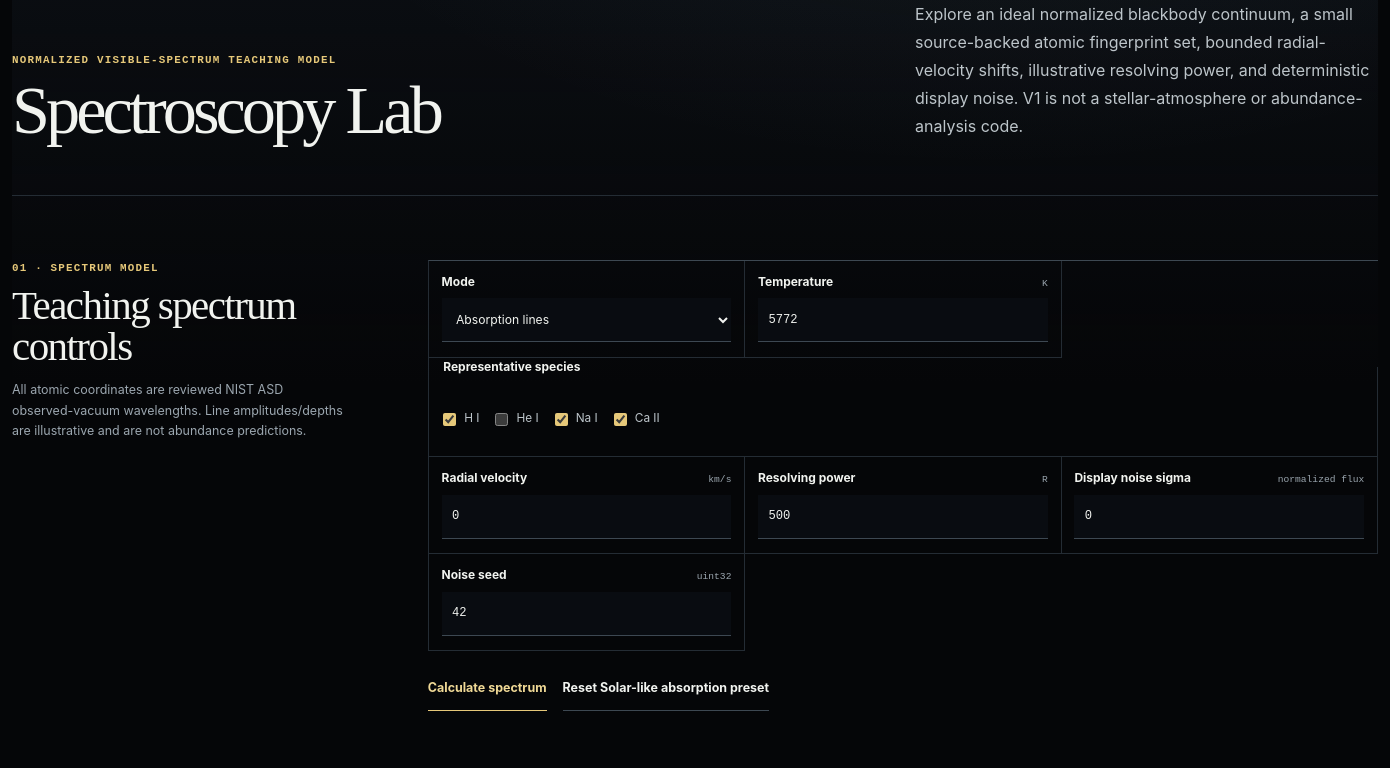
SpectroscopyLabView › commits only an accepted exact continuum state
Select "Blackbody continuum" in the dropdown labelled "Mode" at (586, 320), box top-left (442, 298), bottom-right (731, 342)
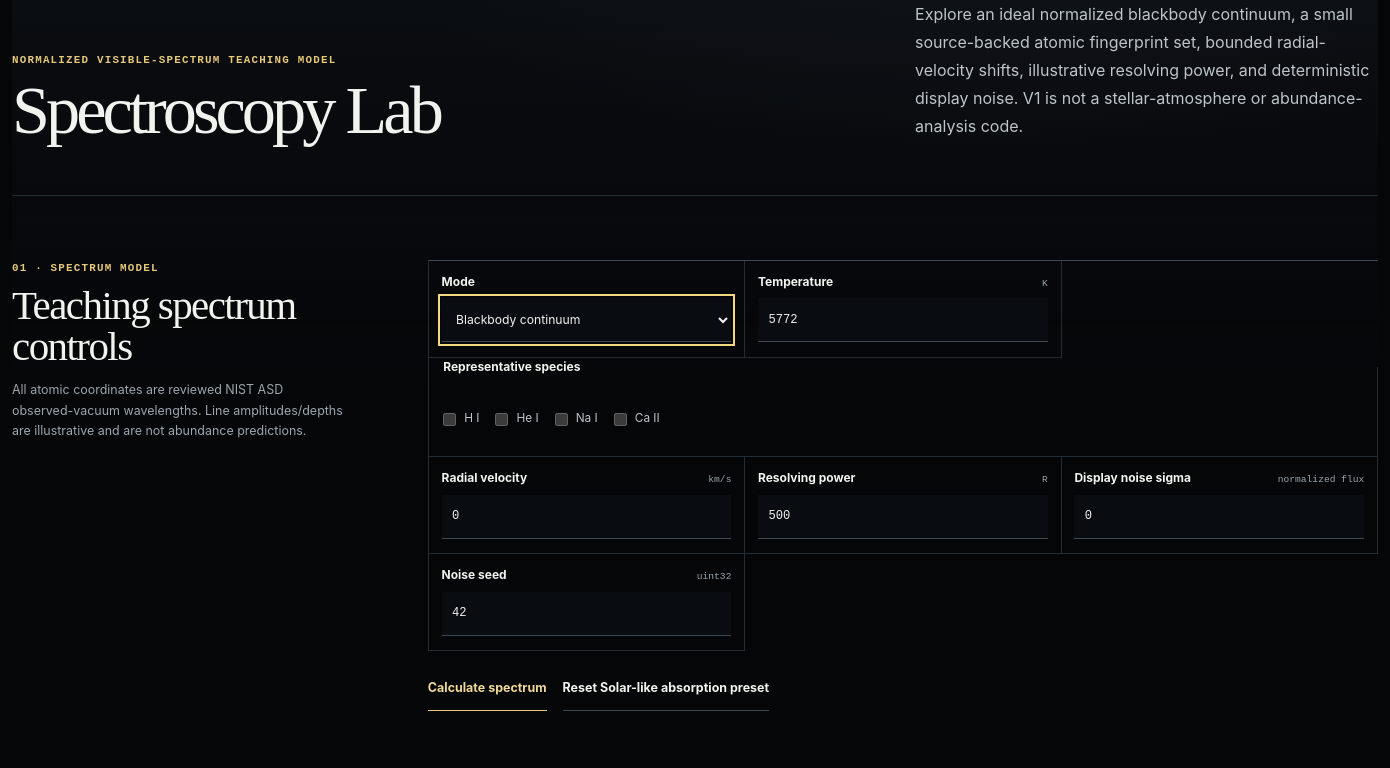
Replace the text in the number field labelled "Temperature K" with "6000" at (903, 320), box top-left (758, 298), bottom-right (1048, 342)
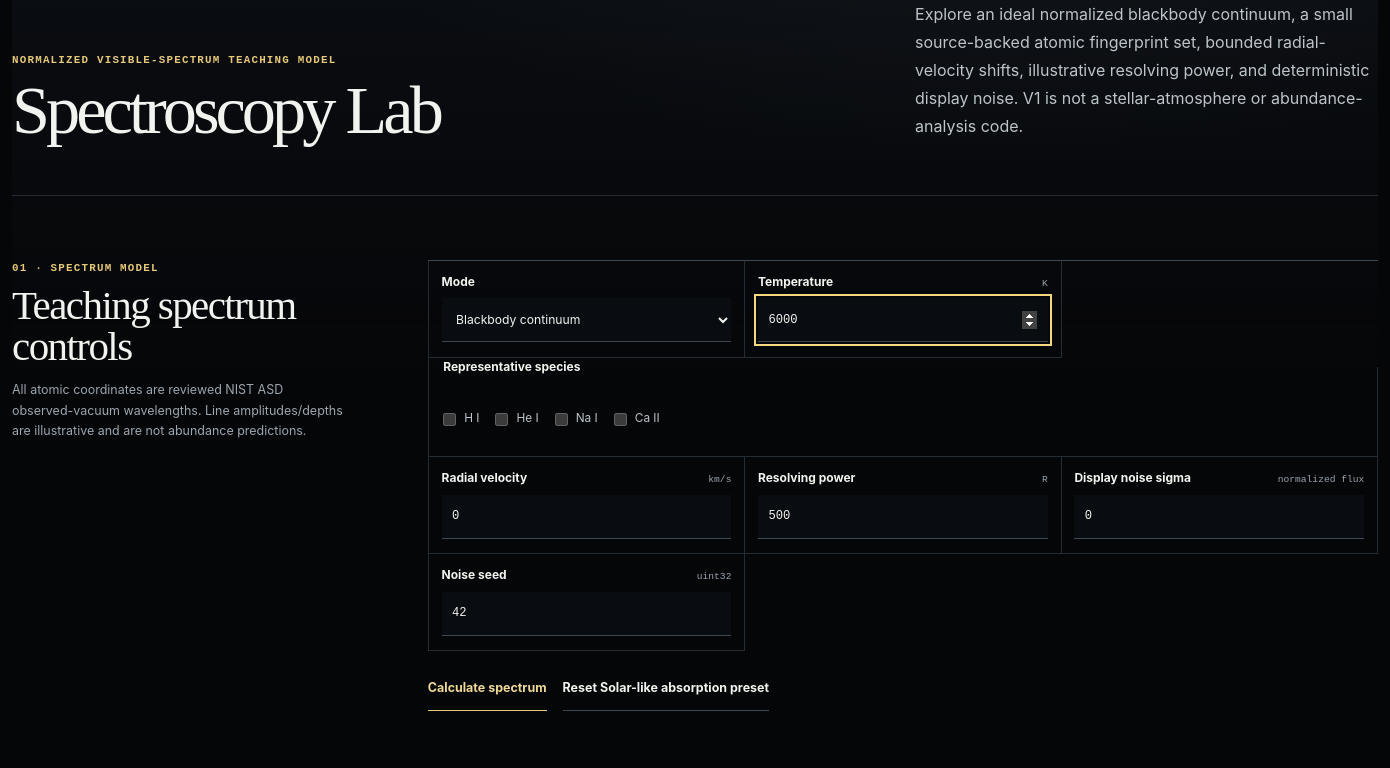
Click the button "Calculate spectrum" at (487, 689), box top-left (428, 667), bottom-right (547, 711)
(page scrolled)
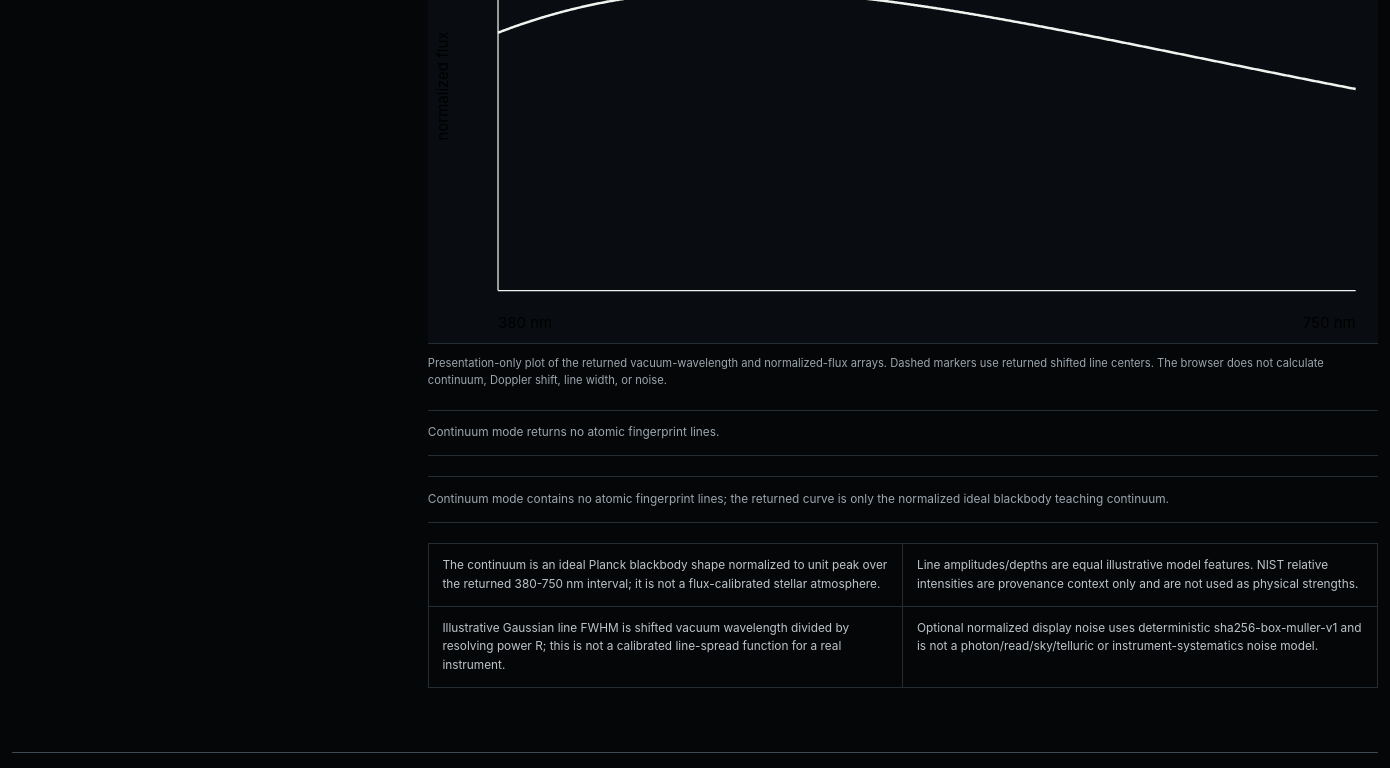
Expected: the text "Continuum mode returns no atomic fingerprint lines." is shown, top-left (428, 410), bottom-right (1378, 456)
